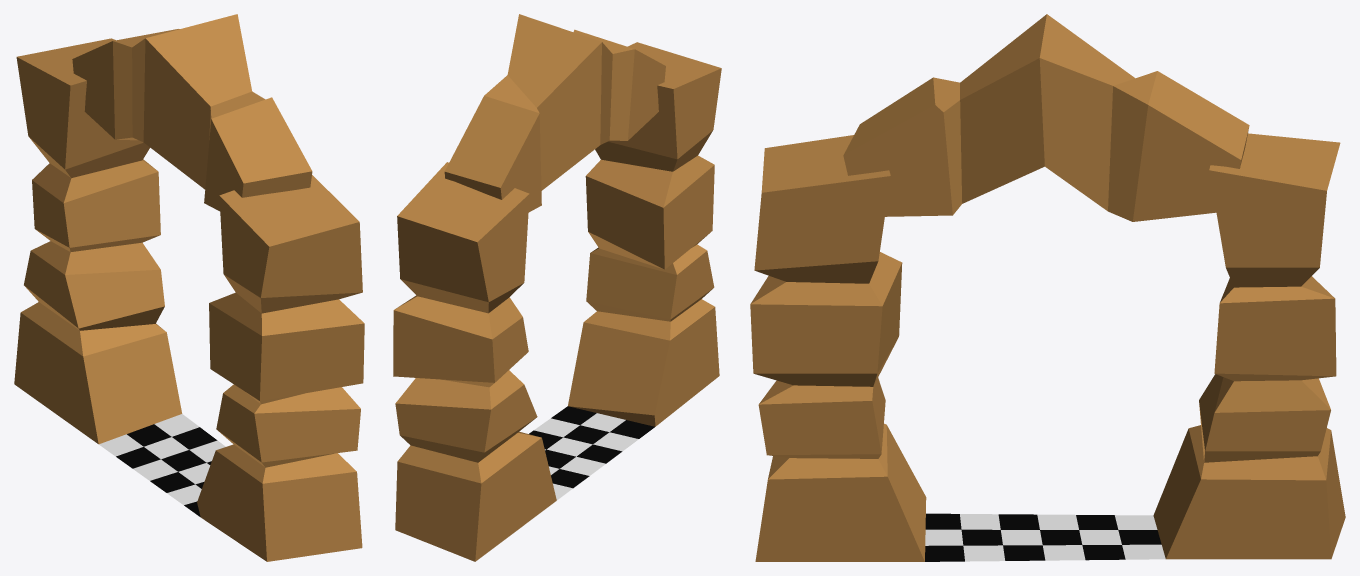
Rendered from archedepart 2.fbx.
3 renders of one model, left to right at view 1: azimuth 30°, elevation 25°; view 2: azimuth 150°, elevation 25°; view 3: azimuth 270°, elevation 25°, orthographic. The views are drawn at different scales.
Visible parts, largest first — view 1: Plane; view 2: Plane; view 3: Plane.
Part boxes in pixels (left/top/right/bottom): Plane: left=14, top=14, right=364, bottom=561; Plane: left=393, top=14, right=721, bottom=561; Plane: left=750, top=14, right=1345, bottom=561.
Bounding box in the file's own units: 203 × 959 × 1017.
